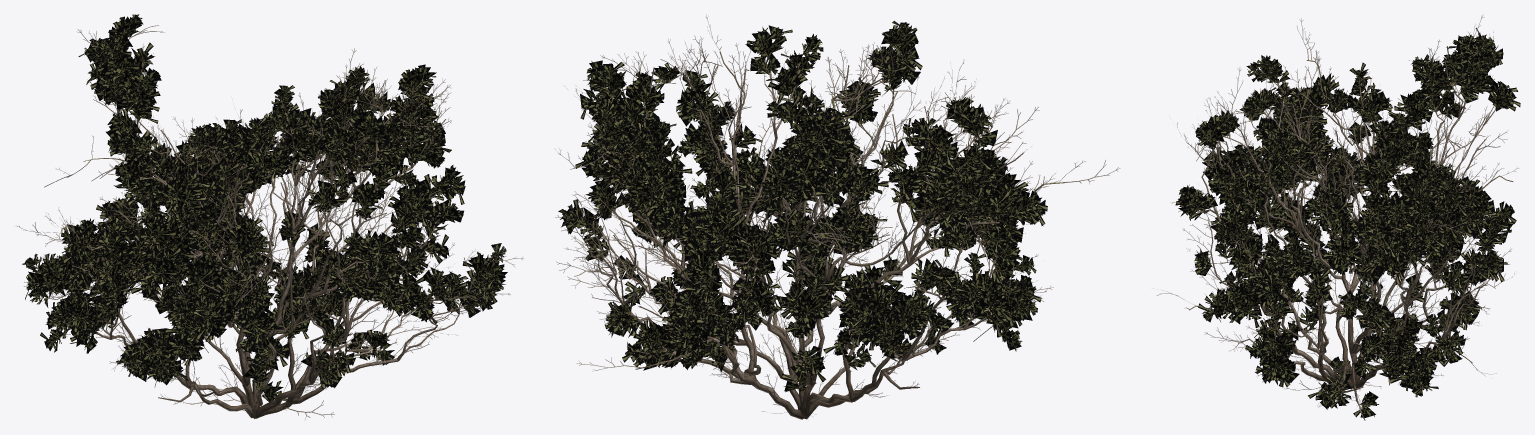
File: bush_medium.glb
3 renders of one model, left to right at view 1: azimuth 30°, elevation 25°; view 2: azimuth 150°, elevation 25°; view 3: azimuth 270°, elevation 25°, orthographic. The views are drawn at different scales.
Parts seen in each view (by area): view 1: searsia_burchellii_medium_LOD0; view 2: searsia_burchellii_medium_LOD0; view 3: searsia_burchellii_medium_LOD0.
Part boxes in pixels (x1,y1,x2,y2): searsia_burchellii_medium_LOD0: [17, 14, 524, 419]; searsia_burchellii_medium_LOD0: [555, 14, 1120, 419]; searsia_burchellii_medium_LOD0: [1157, 14, 1520, 420].
Size of the model in its own units: 3.58 by 2.59 by 2.61.
3 materials, 3 textured.
